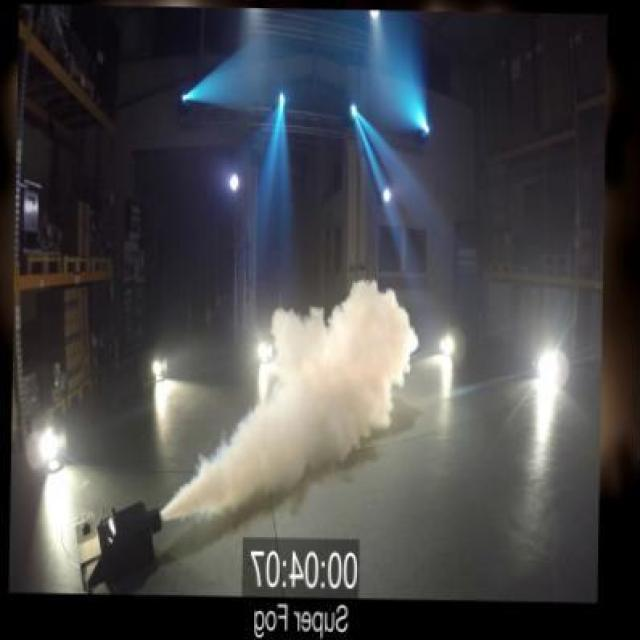fire: (200, 276, 419, 506)
